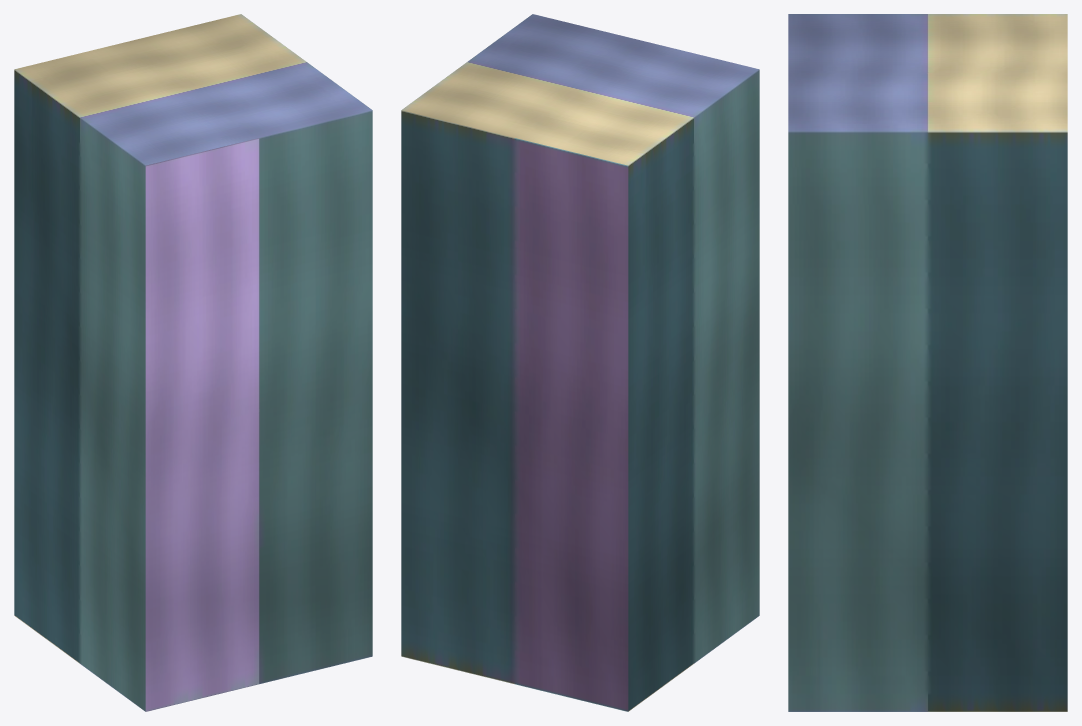
Rendered from firefly_jar.glb.
3 views of the same model, side by side, from view 1: azimuth 30°, elevation 25°; view 2: azimuth 150°, elevation 25°; view 3: azimuth 270°, elevation 25° (orthographic). The views are drawn at different scales.
Parts seen in each view (by area): view 1: col; view 2: col; view 3: col.
Part boxes in pixels (x1,y1,x2,y2): col: [14, 14, 372, 711]; col: [401, 14, 759, 711]; col: [788, 14, 1067, 711].
Size of the model in its own units: 0.5754 by 1.32 by 0.5773.
1 material, 1 textured.
